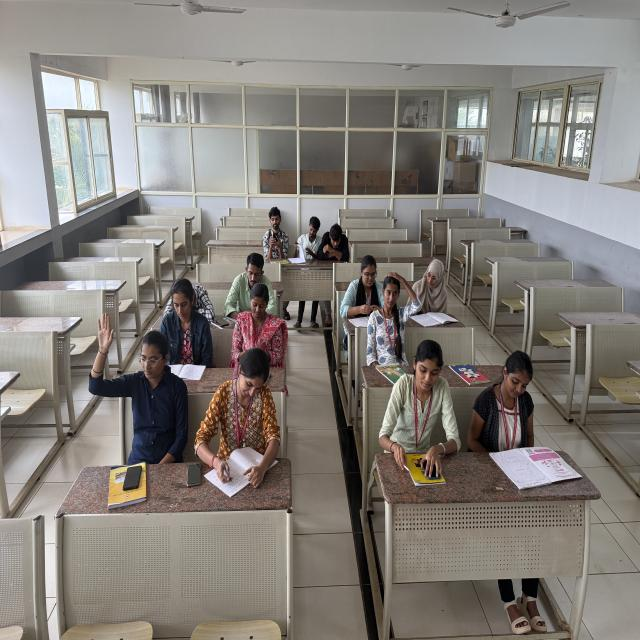Hand Rising: (79, 311, 191, 450)
Reading: (481, 354, 568, 485), (147, 288, 216, 387), (397, 351, 438, 469), (345, 257, 379, 329), (290, 210, 324, 274)
Sleeping: (154, 271, 222, 326)
Using Phone: (230, 290, 286, 365), (256, 204, 294, 269)
Writing: (200, 352, 278, 488), (226, 258, 273, 322)
